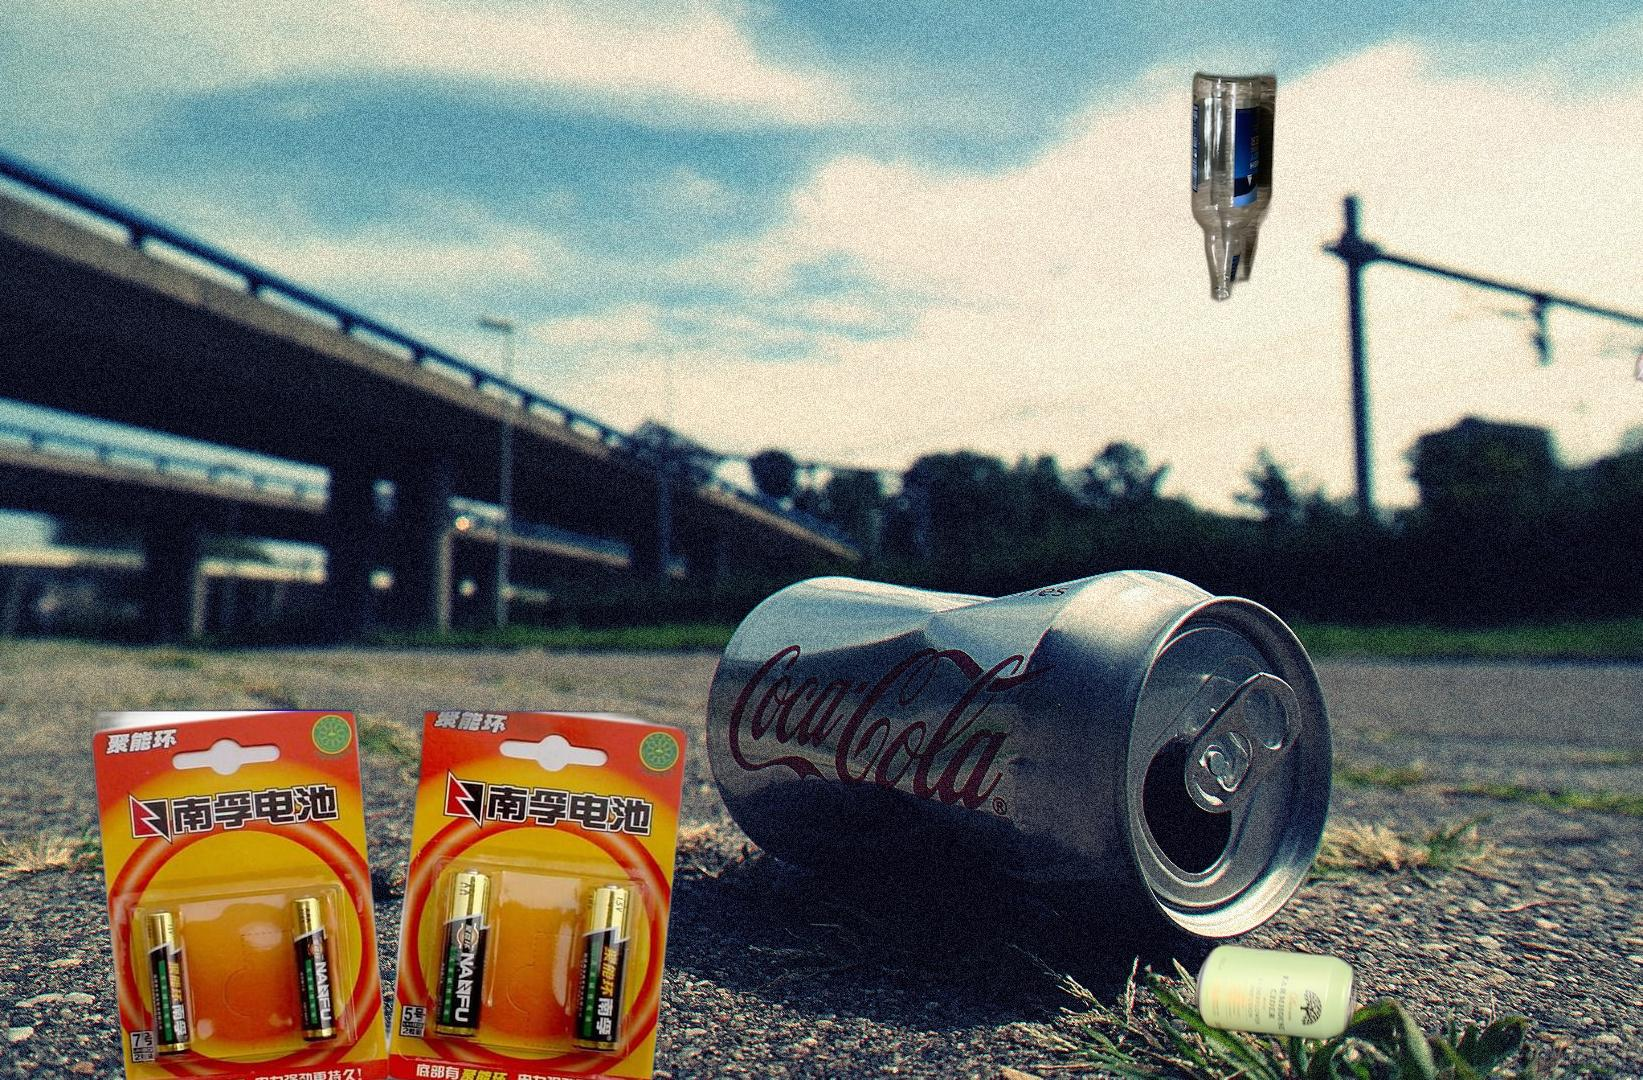battery: (90, 697, 688, 1080)
glass: (1187, 63, 1283, 309)
metal-cans: (1190, 587, 1643, 1080)
penholder: (1629, 182, 1643, 458)
